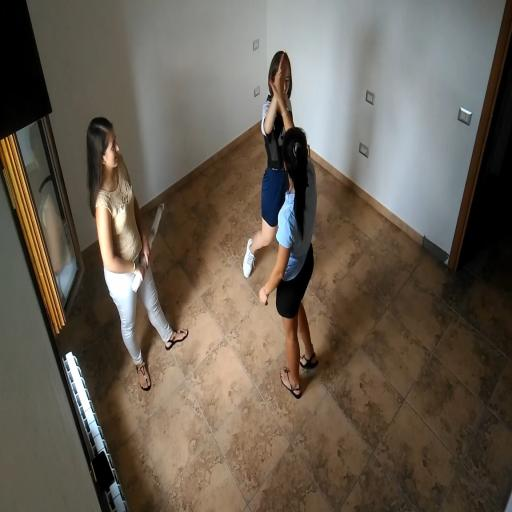nao-violencia: (233, 38, 329, 404)
